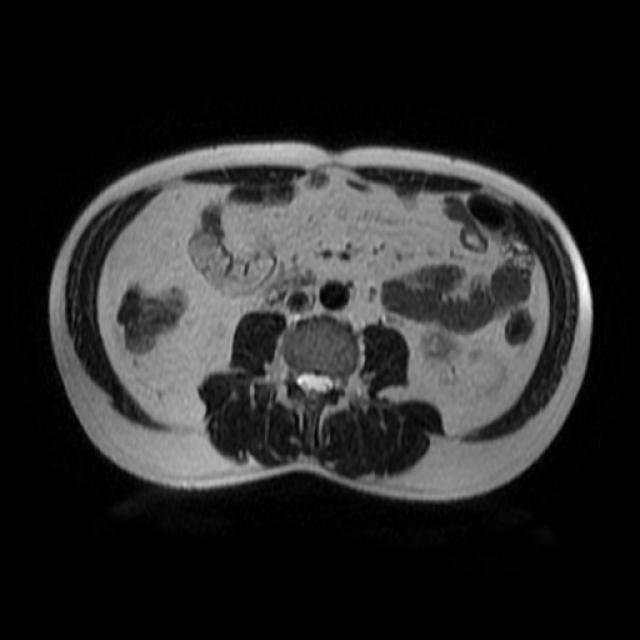sol: (419, 329, 466, 363)
